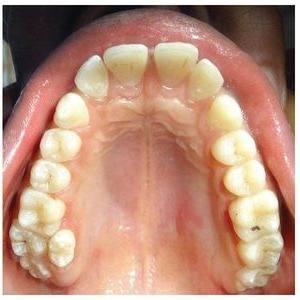UL1BC_healthy: (211, 132, 255, 165)
UL1M_decay: (230, 195, 279, 241)
UL2BC_healthy: (224, 163, 265, 197)
UL2M_healthy: (236, 238, 281, 267)
UL3M_healthy: (237, 266, 273, 290)
ULCI_healthy: (154, 42, 197, 85)
ULC_healthy: (210, 96, 243, 130)
ULLI_healthy: (189, 59, 223, 101)
UR1BC_healthy: (41, 130, 81, 160)
UR1M_healthy: (19, 190, 60, 236)
UR2BC_healthy: (31, 161, 70, 191)
UR2M_decay: (9, 226, 45, 259)
UR3M_decay: (20, 259, 50, 284)
URCI_decay: (103, 44, 146, 84)
URC_healthy: (54, 93, 89, 129)
URLI_healthy: (76, 57, 109, 95)
